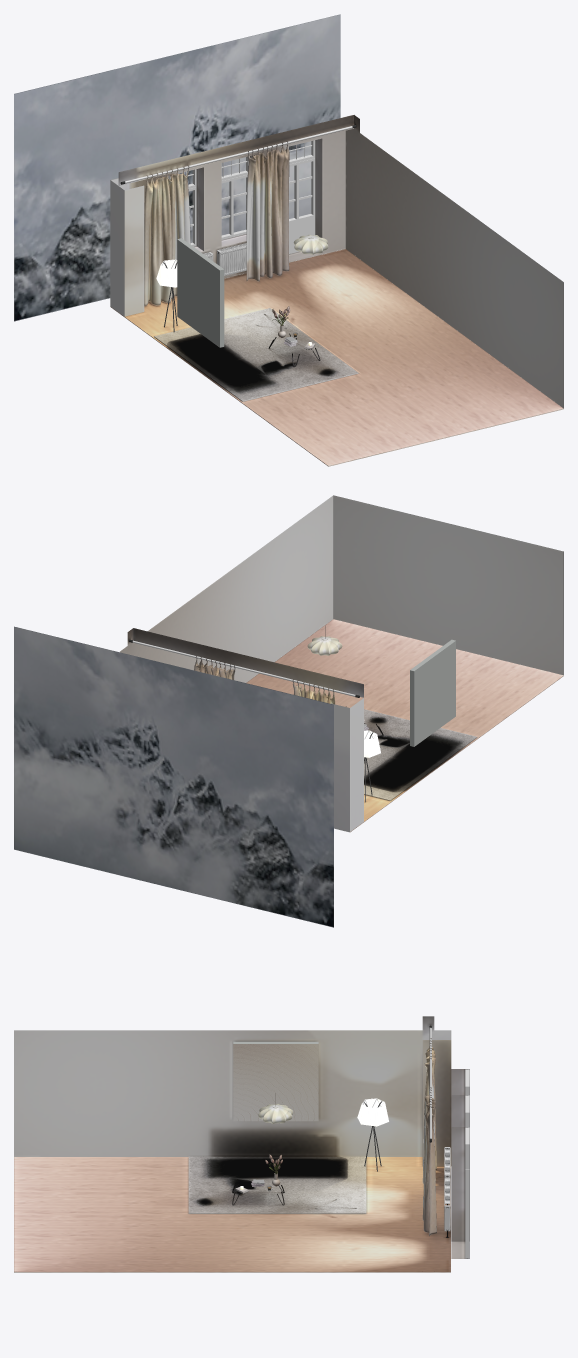
The model's file is room.glb.
3 views of the same model, one above another, from view 1: azimuth 30°, elevation 25°; view 2: azimuth 150°, elevation 25°; view 3: azimuth 270°, elevation 25° (orthographic). The views are drawn at different scales.
Visible parts, largest first — view 1: Plane.003, Cube, Cube.019, CURTAIN 2.008, Plane, Plane.001, Cube.038, Cube.014, Radiator.002, Cylinder.008; view 2: Plane.003, Cube, Cube.019, Plane, Plane.001, CURTAIN 2.008, Cylinder.008, Sphere.001; view 3: Cube, Cube.019, Plane, Plane.001, CURTAIN 2.008, Circle.005, Cube.038, Sphere.001.
Part boxes in pixels (<box>): Plane.003: <box>14,14,340,321</box>; Cube: <box>110,115,563,408</box>; Cube.019: <box>110,249,563,466</box>; CURTAIN 2.008: <box>144,141,289,306</box>; Plane: <box>154,308,358,401</box>; Plane.001: <box>177,238,224,347</box>; Cube.038: <box>288,140,315,253</box>; Cube.014: <box>221,156,249,239</box>; Radiator.002: <box>203,243,246,275</box>; Cylinder.008: <box>120,125,356,184</box>; Plane.003: <box>14,626,333,927</box>; Cube: <box>120,495,563,831</box>; Cube.019: <box>246,619,563,832</box>; Plane: <box>364,709,477,800</box>; Plane.001: <box>410,639,455,746</box>; CURTAIN 2.008: <box>194,656,335,704</box>; Cylinder.008: <box>129,639,359,697</box>; Sphere.001: <box>307,626,342,655</box>; Cube: <box>14,1016,469,1258</box>; Cube.019: <box>14,1157,450,1272</box>; Plane: <box>188,1156,366,1213</box>; Plane.001: <box>233,1041,318,1121</box>; CURTAIN 2.008: <box>422,1038,436,1235</box>; Circle.005: <box>357,1098,388,1126</box>; Cube.038: <box>465,1127,469,1258</box>; Sphere.001: <box>258,1093,293,1123</box>.
Size of the model in its own units: 7.87 by 5.24 by 11.46.
51 materials, 14 textured.
